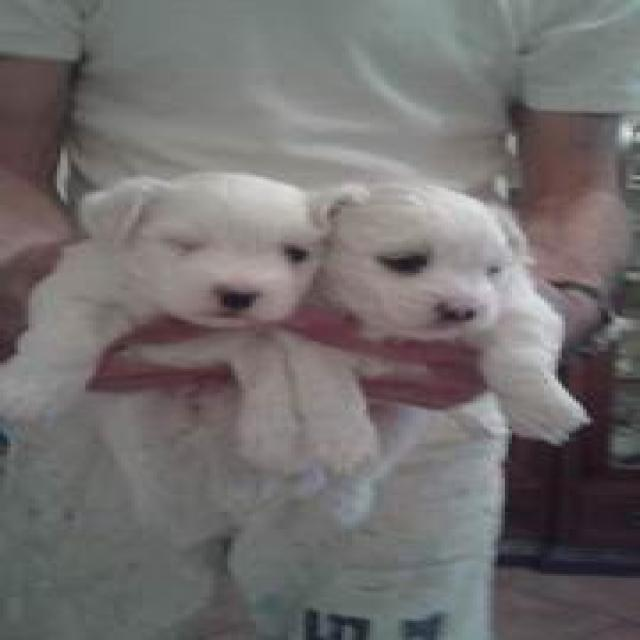animal: (0, 158, 327, 454), (340, 180, 604, 449)
